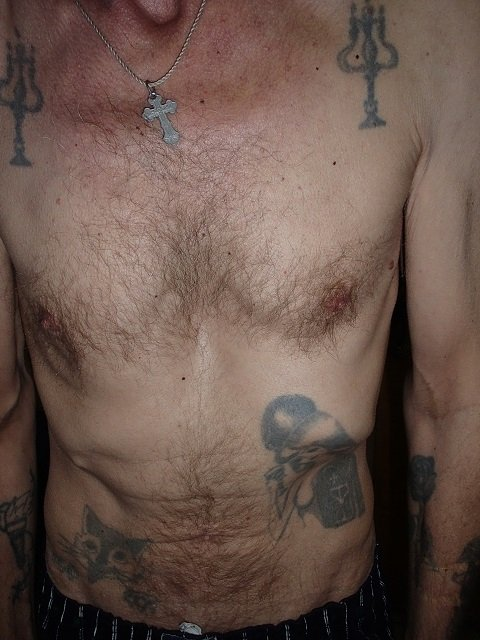tatu8_kot: (48, 493, 168, 621)
